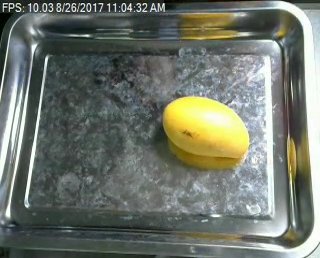Mango: (157, 97, 256, 163)
